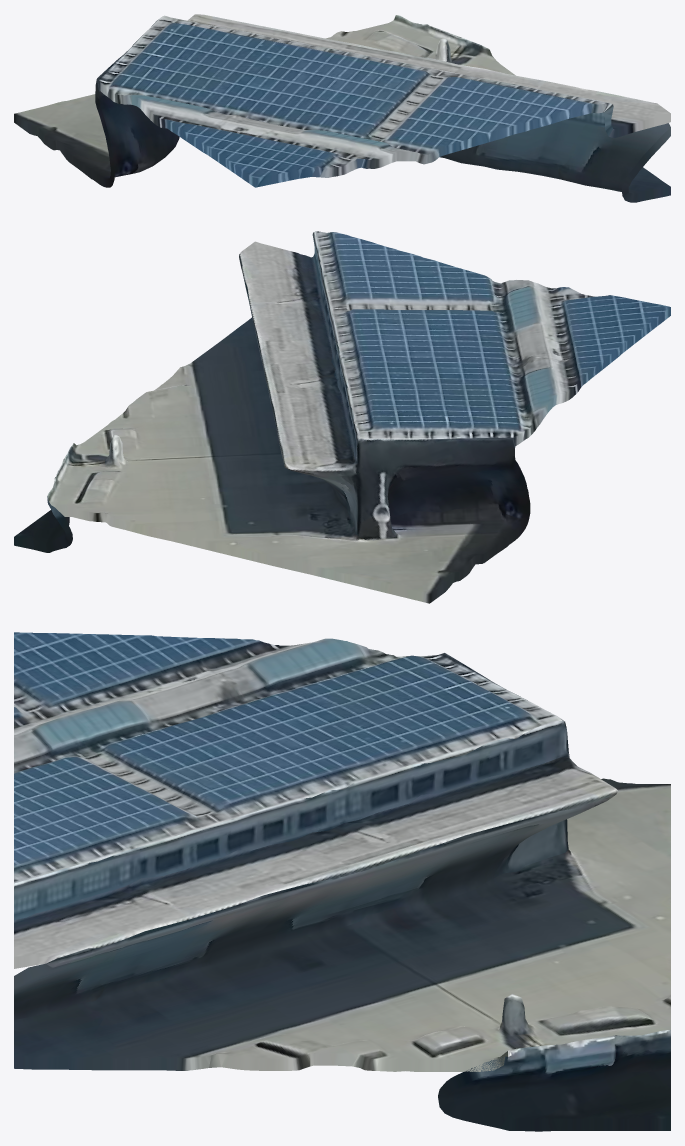
Rendered from z20-167776-405199-h0-yup-uvflip-v3-world.glb.
3 views of the same model, one above another, from view 1: azimuth 30°, elevation 25°; view 2: azimuth 150°, elevation 25°; view 3: azimuth 270°, elevation 25° (orthographic). The views are drawn at different scales.
Bounding box in the file's own units: 30.16 × 11.36 × 30.32.
Materials: 1 (1 with a texture image).
